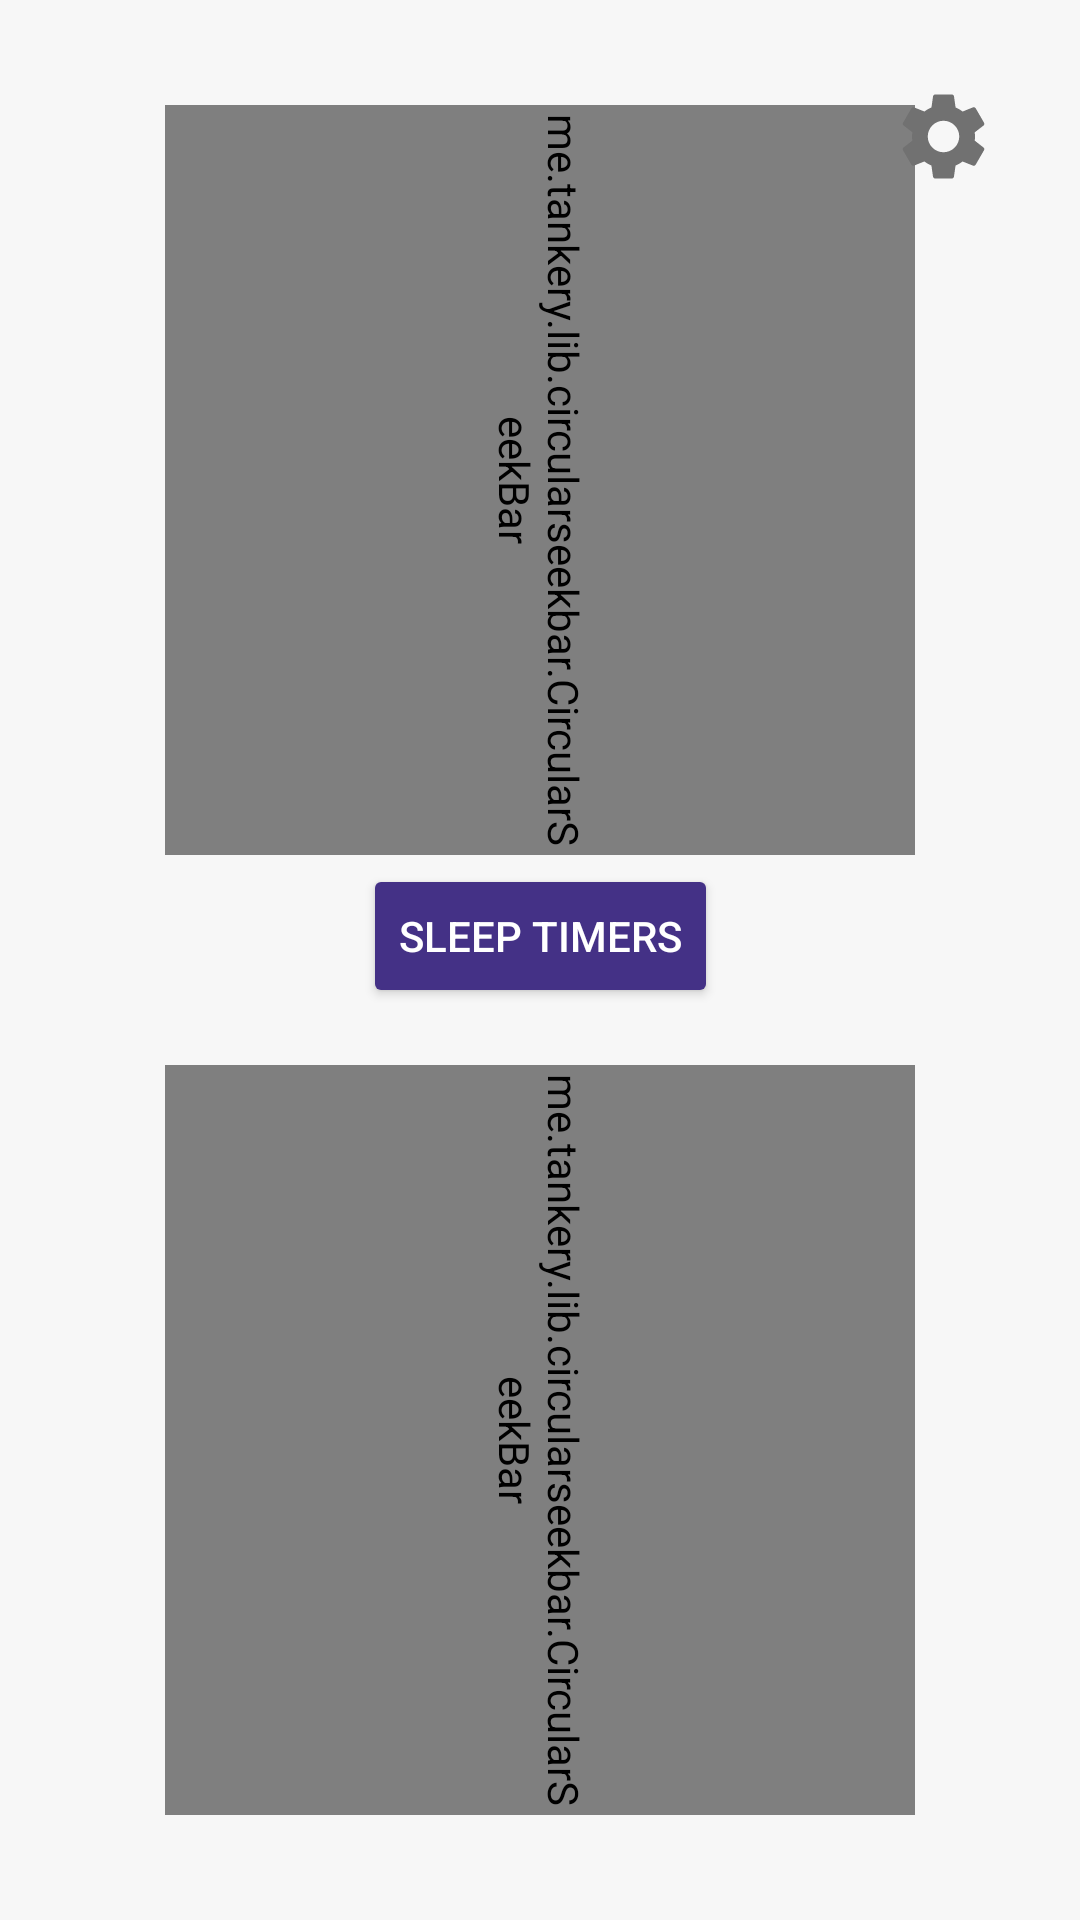

Where to tap for icons on this 1080×1920 app screen, as [x,y]:
Settings page: [938,141]
